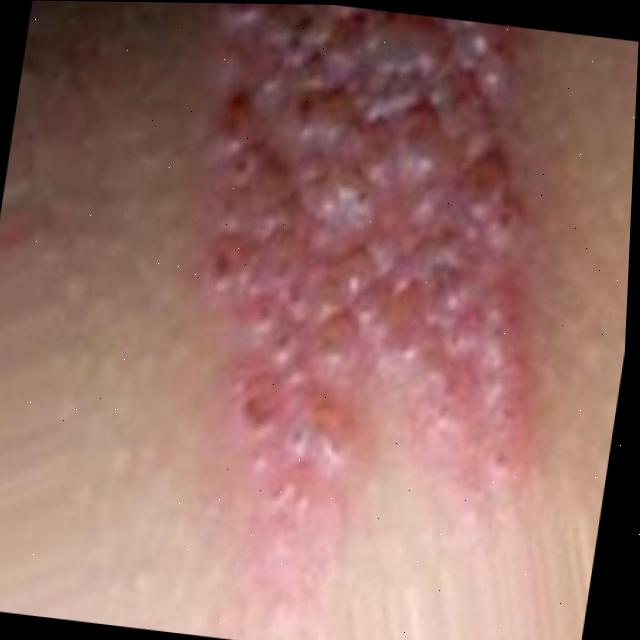Shingles: (144, 3, 568, 572)
